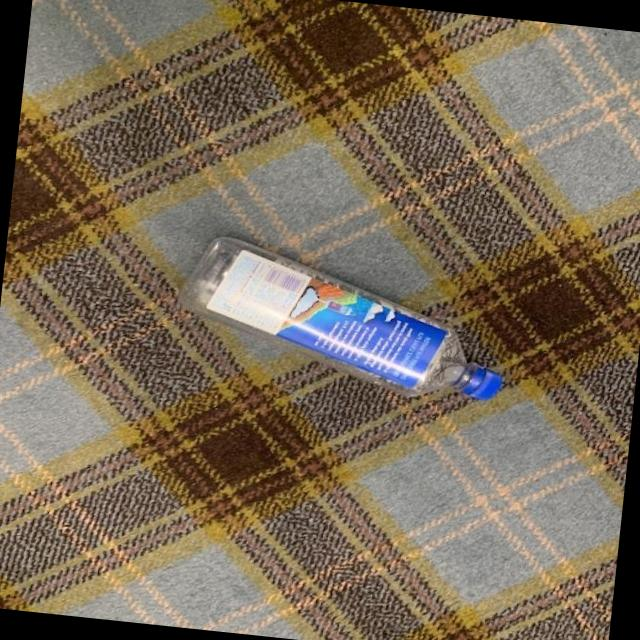plastic_bottle: (170, 231, 513, 406)
